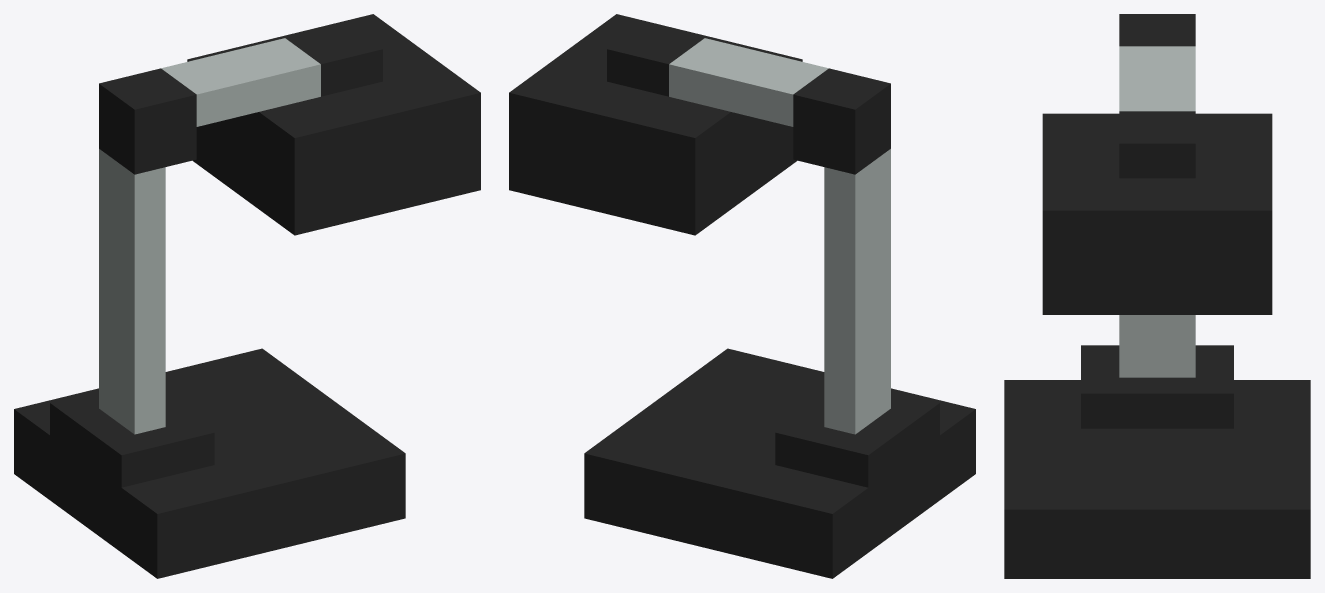
Rendered from lamp_03.glb.
3 views of the same model, side by side, from view 1: azimuth 30°, elevation 25°; view 2: azimuth 150°, elevation 25°; view 3: azimuth 270°, elevation 25° (orthographic). The views are drawn at different scales.
Parts seen in each view (by area): view 1: Untitled; view 2: Untitled; view 3: Untitled.
Boxes of the visible parts, x1=… form: Untitled: x1=14, y1=14, x2=480, y2=578; Untitled: x1=509, y1=14, x2=975, y2=578; Untitled: x1=1004, y1=14, x2=1310, y2=578.
Size of the model in its own units: 0.33 by 0.39 by 0.24.
1 material, 1 textured.
